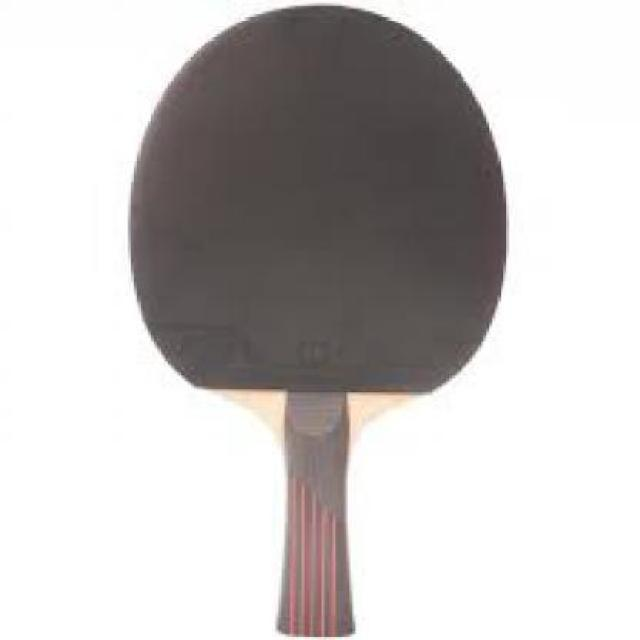table_tennis_racket: (118, 0, 516, 440)
